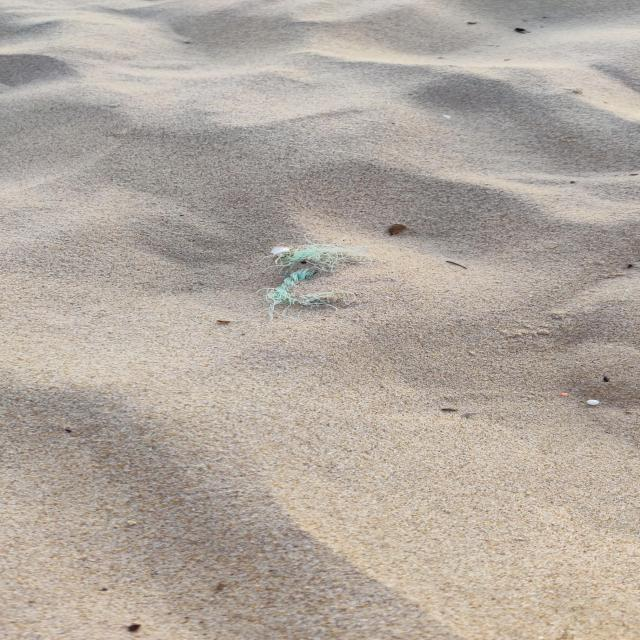litter: (212, 233, 414, 325)
